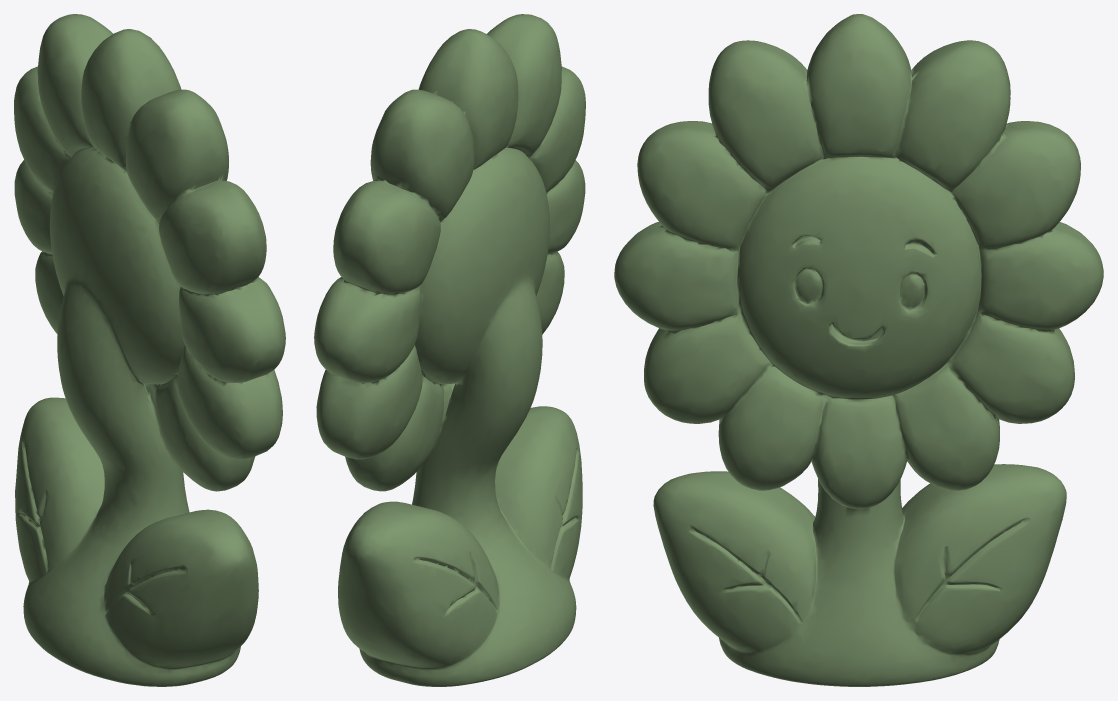
File: sunflower-smile.glb
3 renders of one model, left to right at view 1: azimuth 30°, elevation 25°; view 2: azimuth 150°, elevation 25°; view 3: azimuth 270°, elevation 25°, orthographic. The views are drawn at different scales.
Visible parts, largest first — view 1: tripo_printable_source; view 2: tripo_printable_source; view 3: tripo_printable_source.
Boxes of the visible parts, <box> form: tripo_printable_source: <box>14,14,285,686</box>; tripo_printable_source: <box>314,14,585,686</box>; tripo_printable_source: <box>614,14,1103,686</box>.
Bounding box in the file's own units: 29.29 × 100 × 70.
